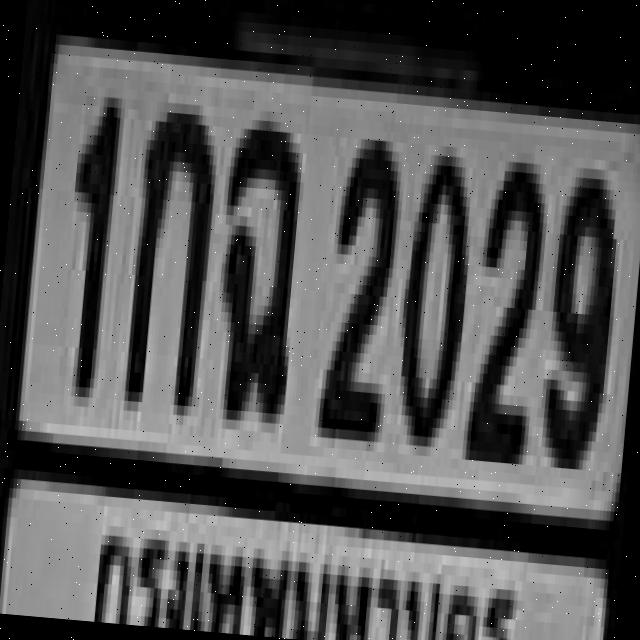0: (391, 138, 473, 434)
1: (54, 85, 119, 388)
10GorGai: (120, 96, 218, 402)
18ChorChing: (206, 108, 306, 414)
2: (315, 122, 401, 427), (463, 150, 545, 444)
9: (537, 161, 619, 456)
